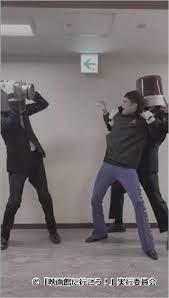no more kid: (0, 75, 42, 122)
